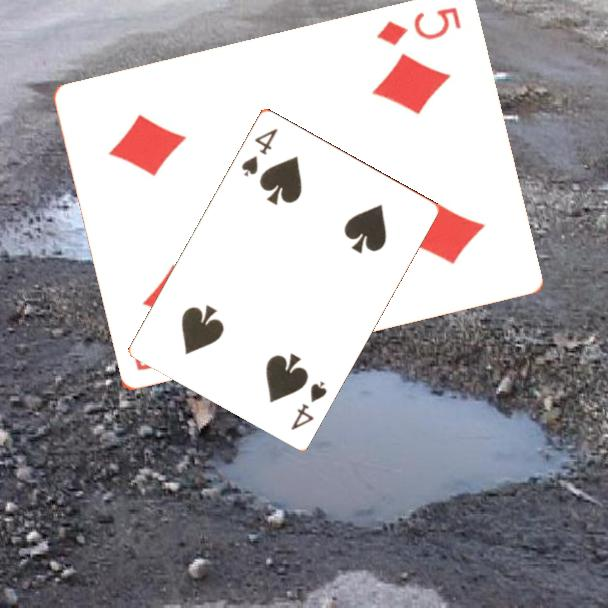d05: (373, 4, 464, 49)
s04: (238, 124, 281, 180), (287, 377, 330, 433)
